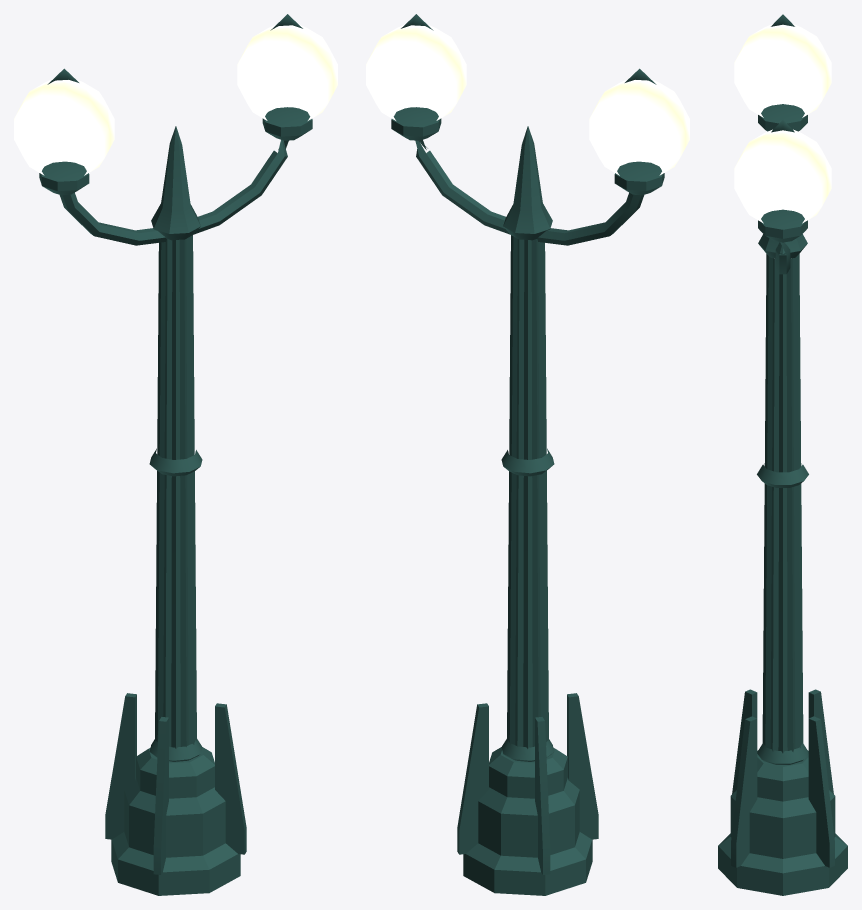
The model's file is lamp_promenade.gltf.
The picture shows the model from 3 angles, left to right: view 1: azimuth 30°, elevation 25°; view 2: azimuth 150°, elevation 25°; view 3: azimuth 270°, elevation 25°; orthographic projection. The views are drawn at different scales.
Visible parts, largest first — view 1: lamp_promenade_body; view 2: lamp_promenade_body; view 3: lamp_promenade_body.
Part boxes in pixels (bbox=[...]): lamp_promenade_body: bbox=[14, 14, 337, 895]; lamp_promenade_body: bbox=[366, 14, 689, 895]; lamp_promenade_body: bbox=[718, 14, 847, 895].
Bounding box in the file's own units: 1.39 × 3.54 × 0.52.
